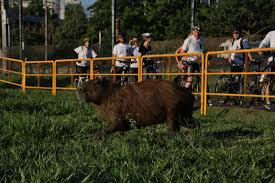capivara: (79, 75, 194, 136)
